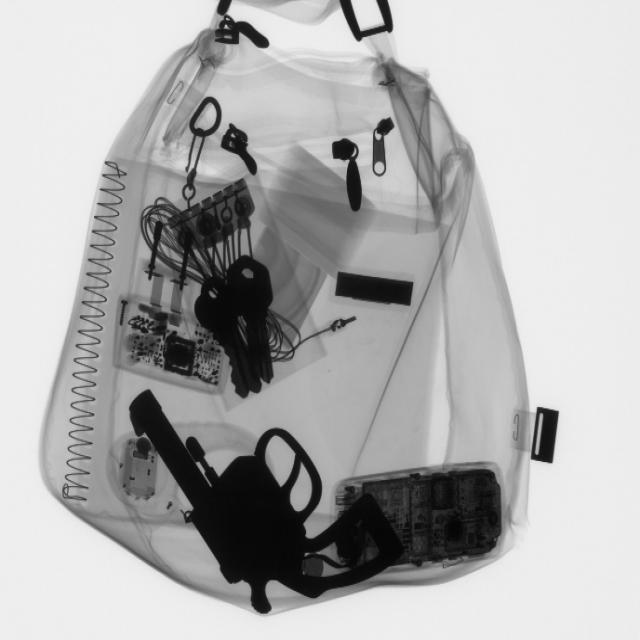GUN: (130, 376, 408, 618)
